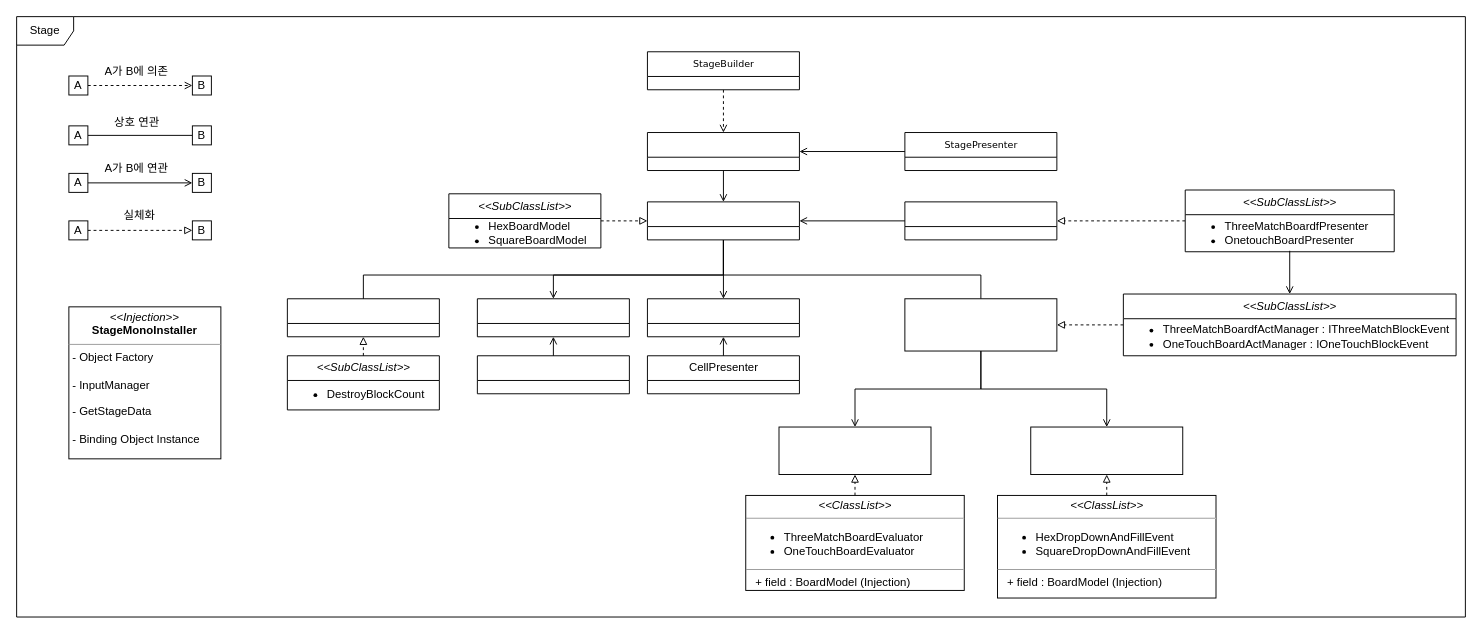
This 1482x634 diagram has some shape labels left out. Here are the shapes that lost their labels. From the top down, the centre of each, then its label:
pixel 722 151: StageModel
pixel 722 220: <<Abstract>> BoardModel
pixel 980 220: <<Abstract>> BoardPresenter
pixel 362 317: <<Abstract>> BoardQuest
pixel 552 317: BlockModel
pixel 722 317: CellModel
pixel 980 324: <<Abstract>> BoardActManager
pixel 552 374: BlockPresenter
pixel 854 450: <<Interface>> IMatchEvaluator
pixel 1106 450: <<Interface>> IDropAndFillEvent
